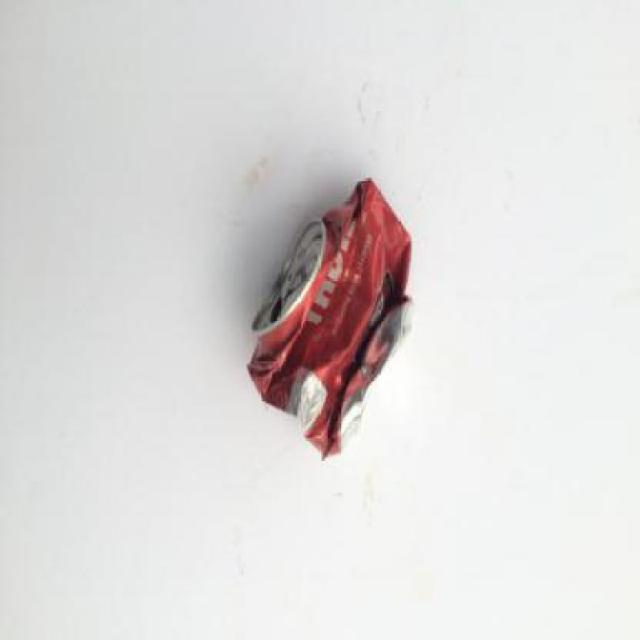METAL: (247, 177, 416, 461)
